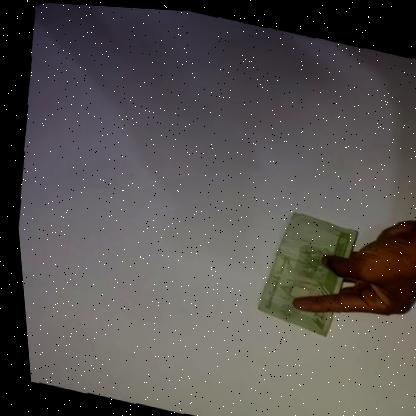fifty-back-vef: (242, 200, 362, 338)
